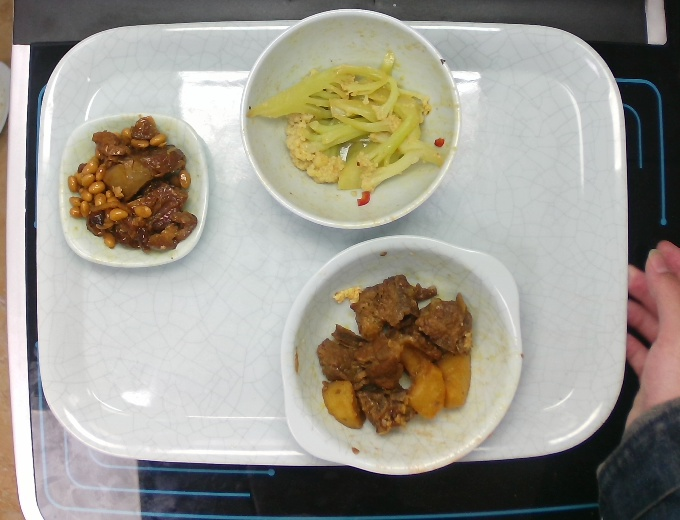JYsf-Fan_Wan: (236, 5, 463, 233)
JYsf-Shuang_Er_Wan: (275, 232, 528, 480)
JYsf-Si_Fang_Die: (54, 107, 214, 272)
